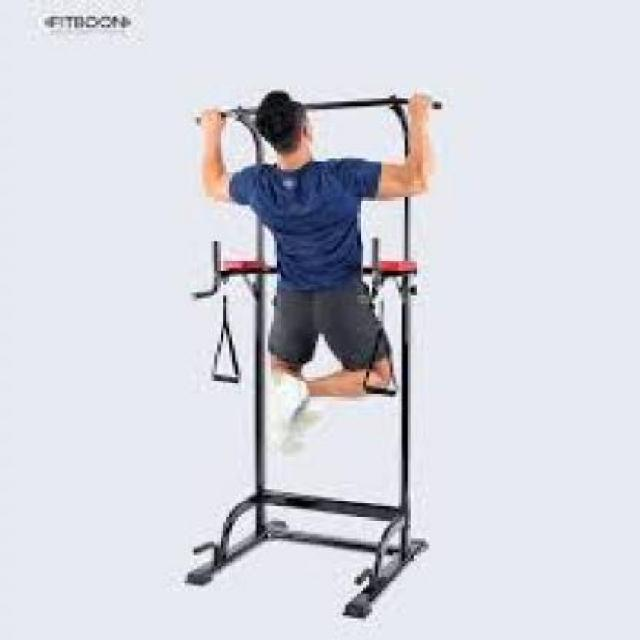chinning dipping: (184, 99, 444, 622)
